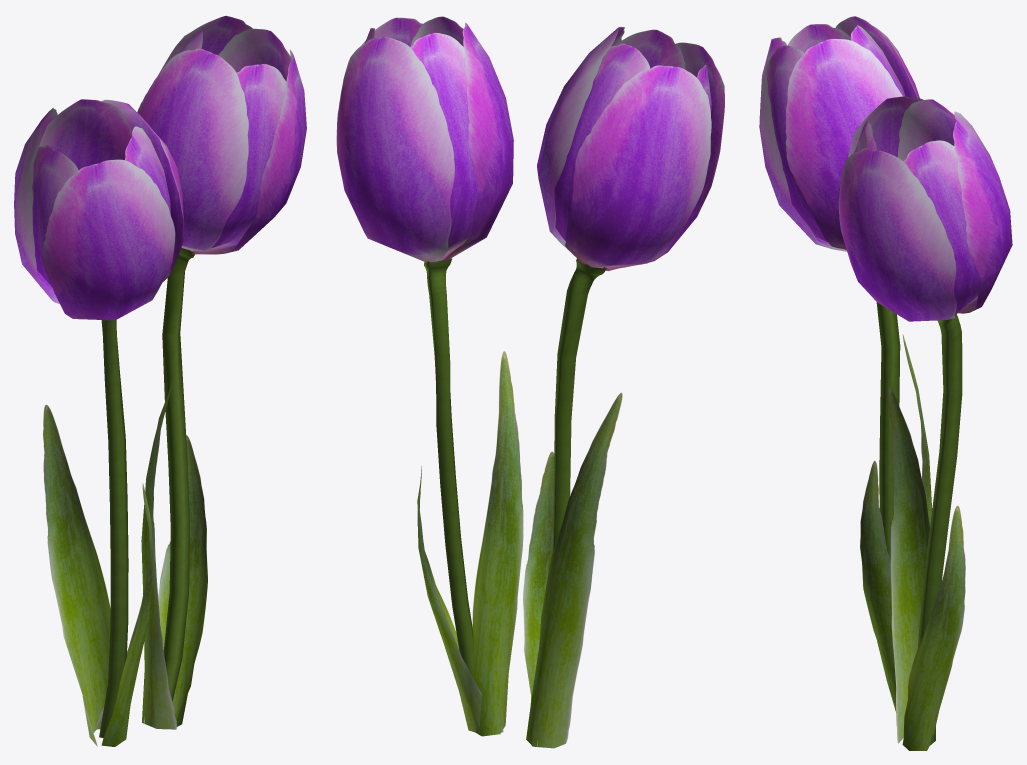
The model's file is generic_tulip_flower.glb.
3 views of the same model, side by side, from view 1: azimuth 30°, elevation 25°; view 2: azimuth 150°, elevation 25°; view 3: azimuth 270°, elevation 25° (orthographic). The views are drawn at different scales.
Parts seen in each view (by area): view 1: Cylinder.002, Cylinder.001; view 2: Cylinder.001, Cylinder.002; view 3: Cylinder.001, Cylinder.002.
Boxes of the visible parts, left/top/right/bottom form: Cylinder.002: left=14, top=99, right=183, bottom=746; Cylinder.001: left=137, top=16, right=306, bottom=729; Cylinder.001: left=336, top=16, right=523, bottom=736; Cylinder.002: left=523, top=27, right=724, bottom=748; Cylinder.001: left=838, top=96, right=1012, bottom=750; Cylinder.002: left=759, top=16, right=932, bottom=712.
Bounding box in the file's own units: 10.64 × 21.36 × 7.43.
Materials: 2 (2 with a texture image).
